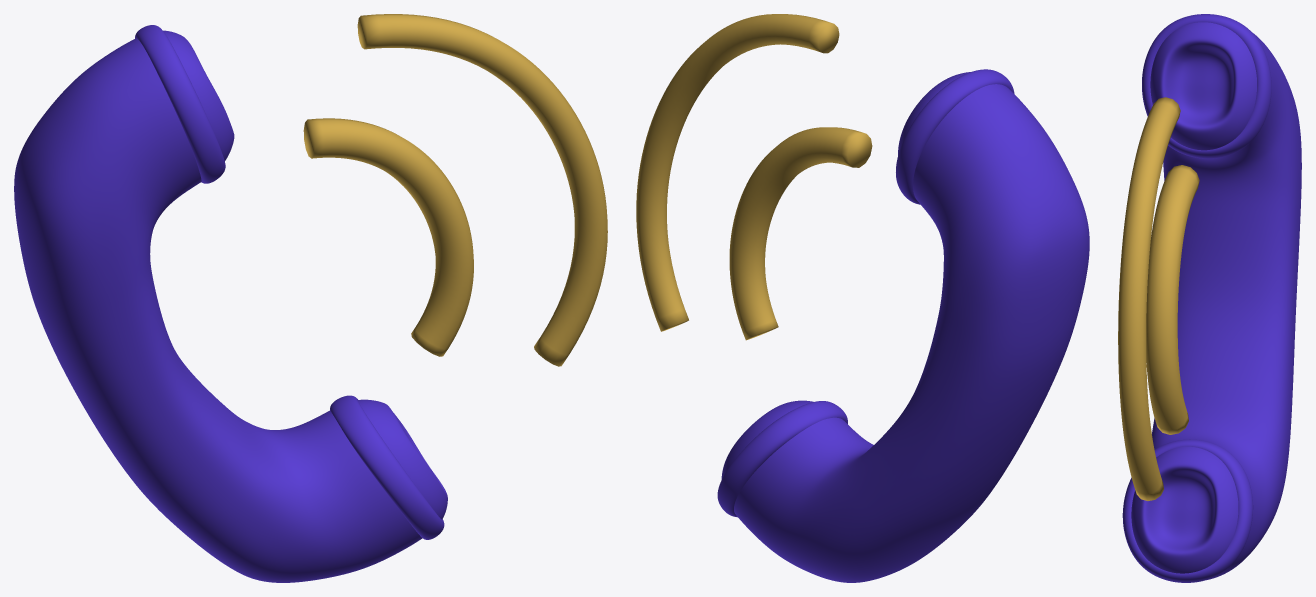
Rendered from call-3d-icon-1348368402777.glb.
3 renders of one model, left to right at view 1: azimuth 30°, elevation 25°; view 2: azimuth 150°, elevation 25°; view 3: azimuth 270°, elevation 25°, orthographic. The views are drawn at different scales.
Parts seen in each view (by area): view 1: Telephone, Signal; view 2: Telephone, Signal; view 3: Telephone, Signal.
Part boxes in pixels (<box>): Telephone: <box>14,25,447,582</box>; Signal: <box>303,14,607,366</box>; Telephone: <box>717,69,1089,582</box>; Signal: <box>636,14,872,340</box>; Telephone: <box>1122,14,1301,582</box>; Signal: <box>1118,97,1199,500</box>.
Bounding box in the file's own units: 1.81 × 1.88 × 0.6446.
